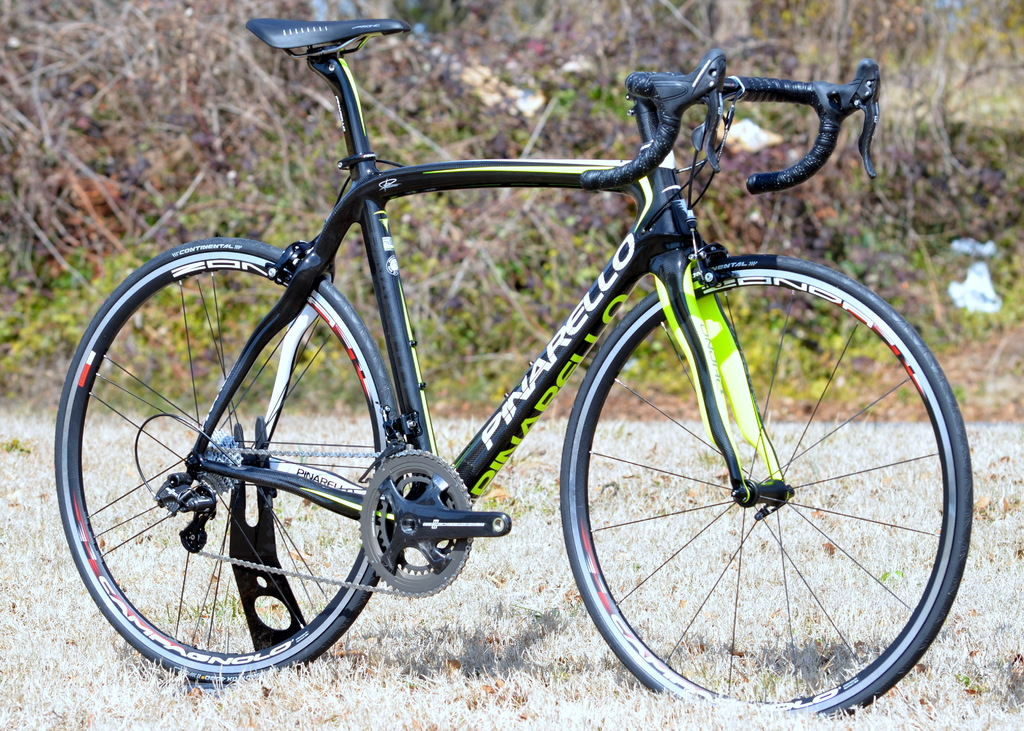Bike_toward: (58, 13, 971, 708)
